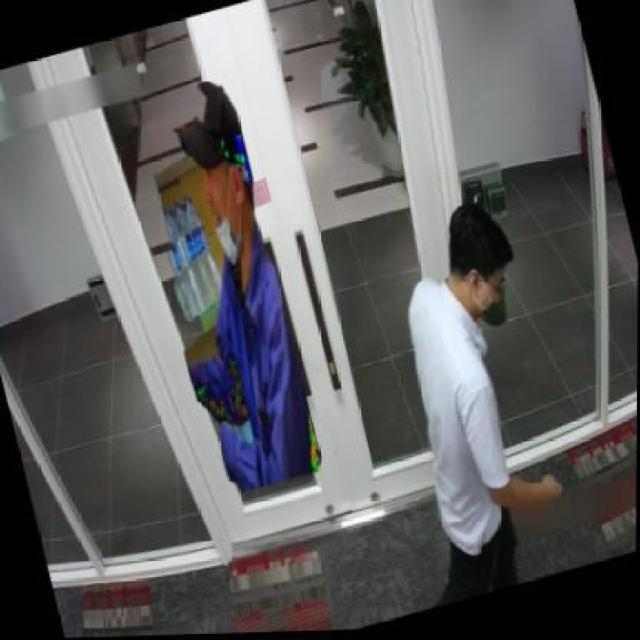hairnet: (206, 142, 247, 270)
